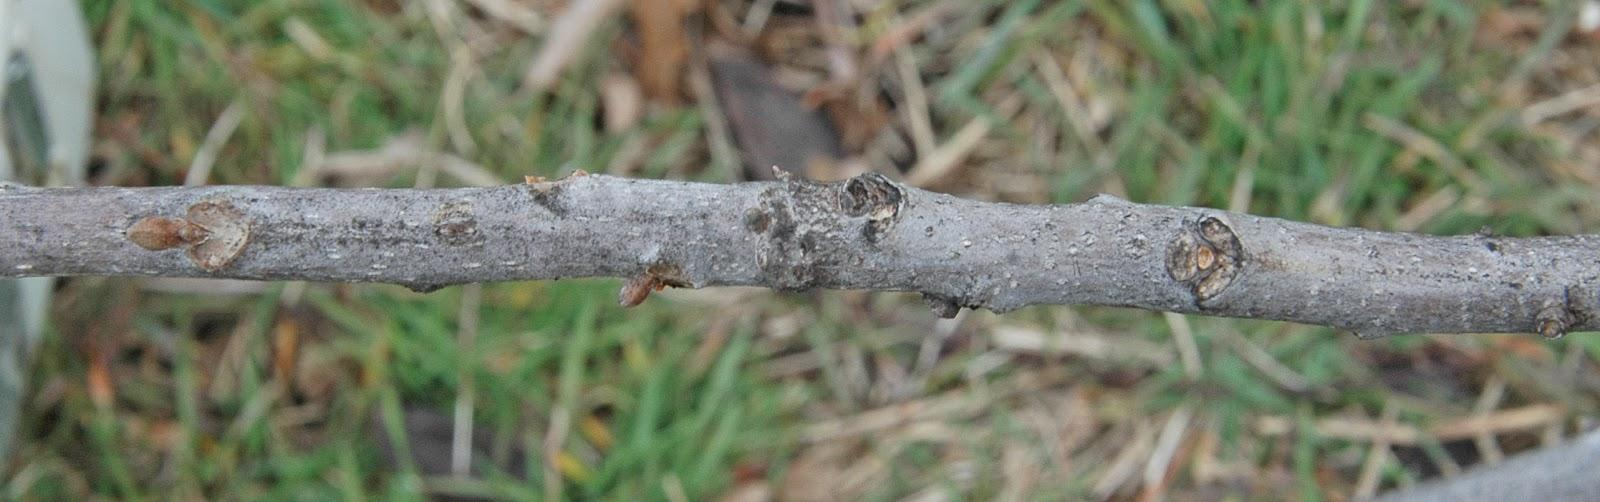branches_drying: (0, 174, 1599, 337)
